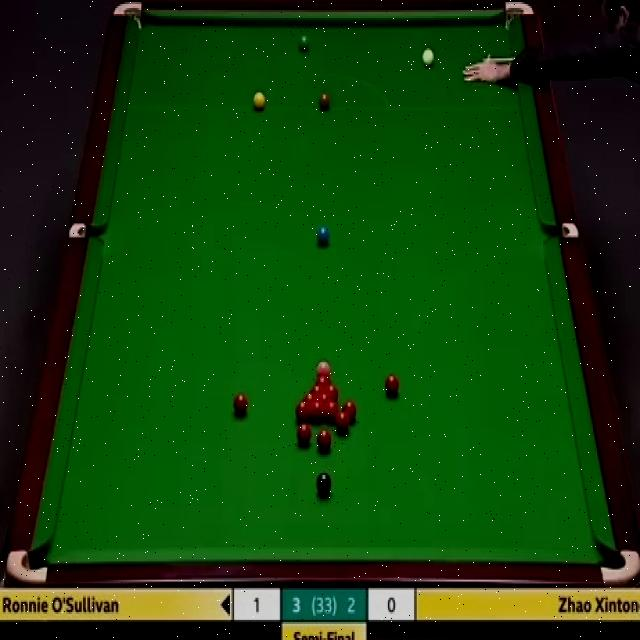black-ball: (316, 471, 332, 497)
blue-ball: (316, 225, 330, 245)
brown-ball: (318, 92, 331, 110)
green-ball: (296, 31, 312, 56)
pink-ball: (316, 358, 330, 371)
red-ball: (232, 392, 249, 418), (384, 373, 400, 398), (296, 422, 312, 445), (316, 428, 332, 451), (294, 399, 310, 421), (342, 399, 356, 422), (336, 412, 350, 434), (325, 400, 339, 422), (310, 399, 323, 420), (325, 382, 339, 398), (312, 372, 330, 382), (309, 382, 324, 392), (317, 391, 332, 400), (302, 392, 316, 401)
white-ball: (420, 45, 434, 69)
yellow-ball: (252, 91, 265, 110)
